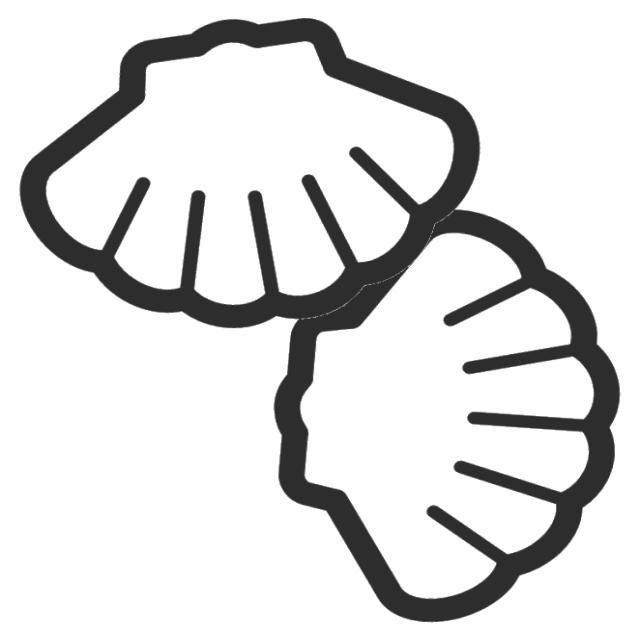shell: (8, 8, 490, 342), (262, 203, 627, 635)
